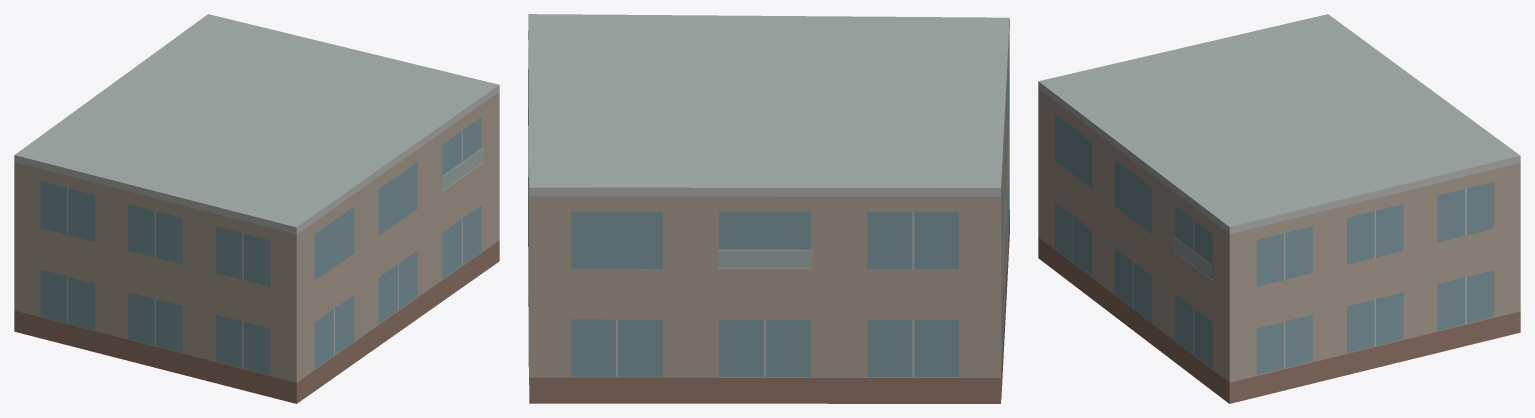
The model's file is survey-upis-33001955.glb.
3 views of the same model, side by side, from view 1: azimuth 30°, elevation 25°; view 2: azimuth 150°, elevation 25°; view 3: azimuth 270°, elevation 25° (orthographic). The views are drawn at different scales.
Parts seen in each view (by area): view 1: survey-upis-33001955.tmp; view 2: survey-upis-33001955.tmp; view 3: survey-upis-33001955.tmp.
Part boxes in pixels (x1,y1,x2,y2): survey-upis-33001955.tmp: [14, 14, 499, 403]; survey-upis-33001955.tmp: [528, 14, 1009, 403]; survey-upis-33001955.tmp: [1038, 14, 1520, 403].
Bounding box in the file's own units: 15.77 × 6.1 × 15.09.
